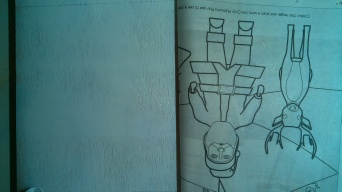p: (176, 1, 341, 189)
